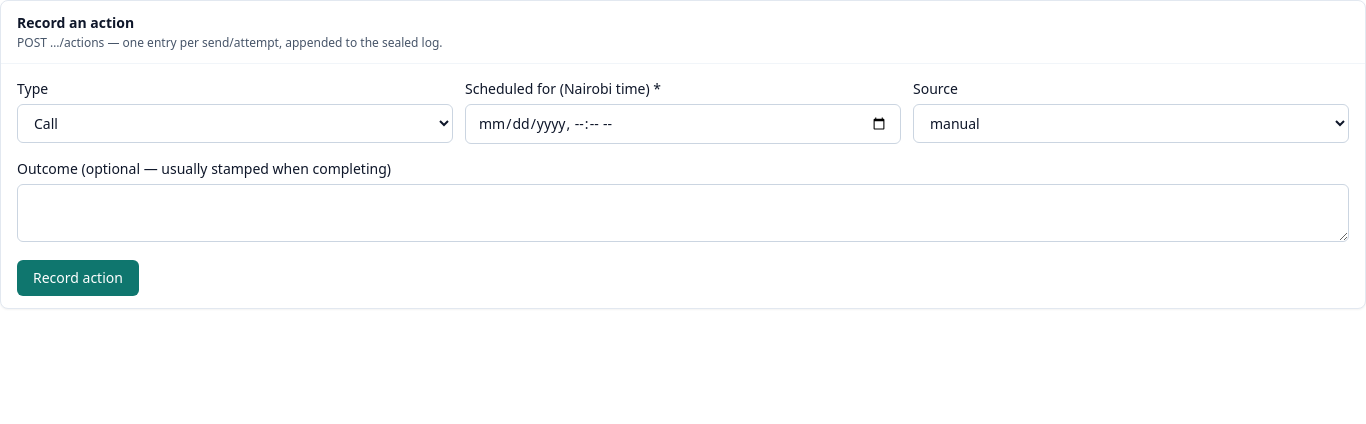
Scenario: CaseRecordActionPanel defaults › requires the K2 consent reference only for automated outbound sends
The width and height of the screenshot is (1366, 424).
Check: the field labelled "Dunning consent reference" is not shown
Select "SMS" in the dropdown labelled "Type" at (235, 124), box [17,104,453,143]
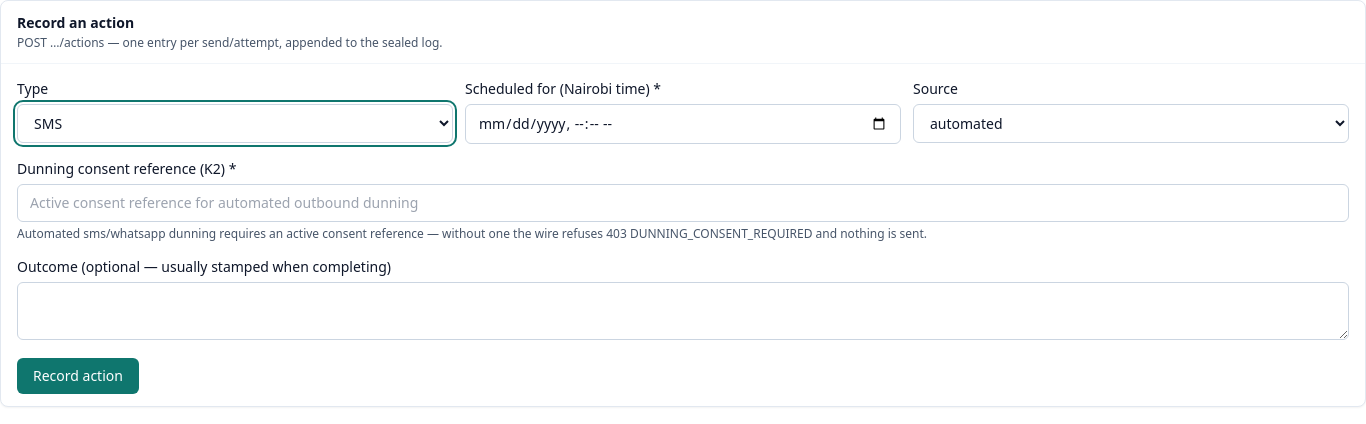
Select "manual" in the dropdown labelled "Source" at (1131, 124), box [913,104,1349,143]
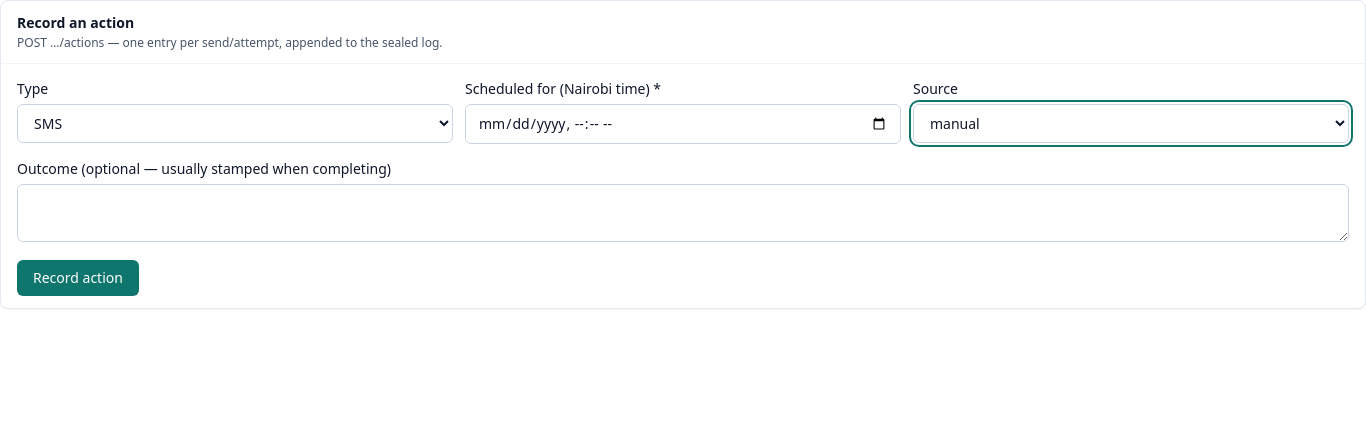
Check: the label labelled "Dunning consent reference" is gone
